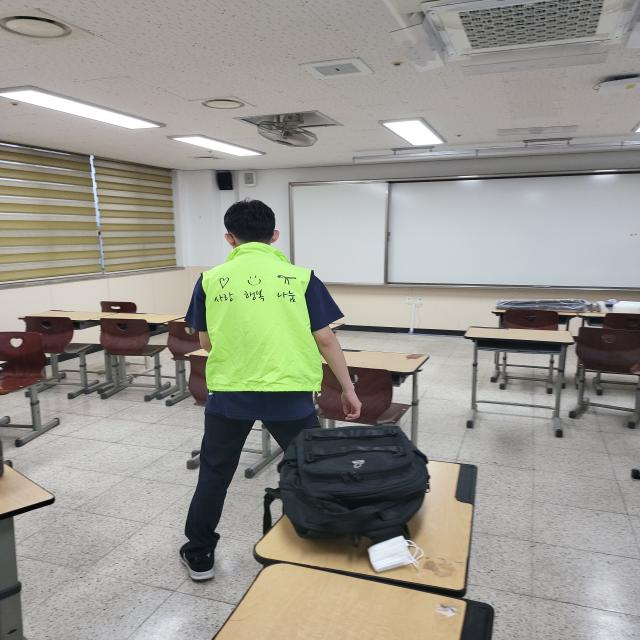weston_spy: (184, 246, 345, 411)
